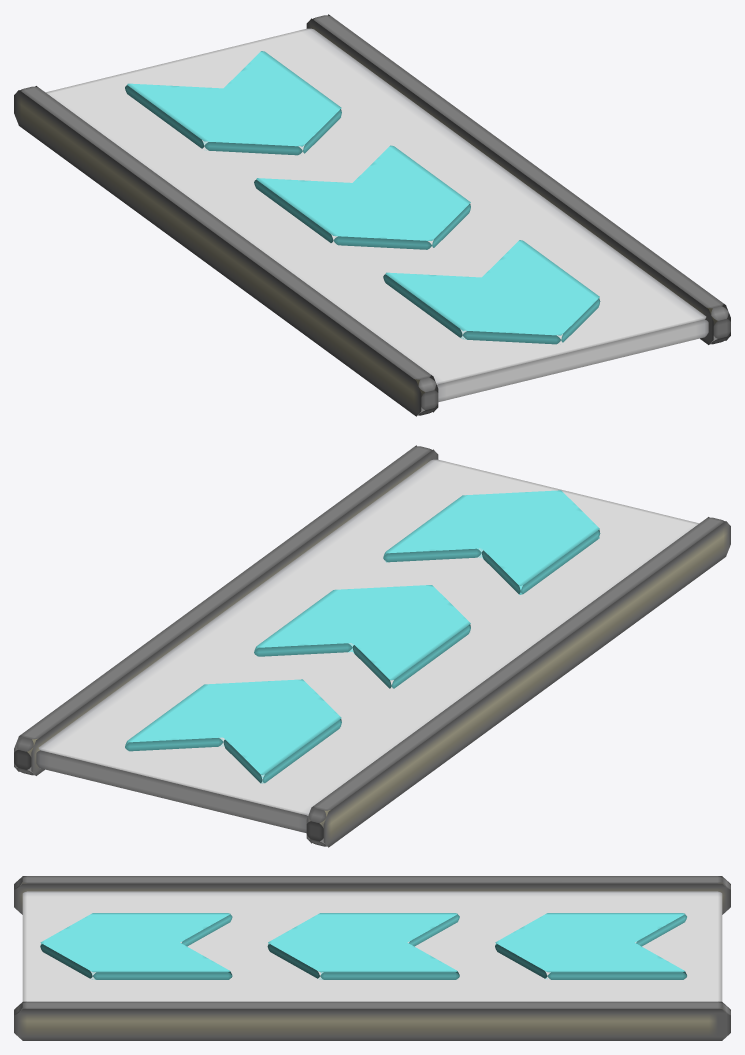
File: Belt.fbx
3 renders of one model, top to bottom at view 1: azimuth 30°, elevation 25°; view 2: azimuth 150°, elevation 25°; view 3: azimuth 270°, elevation 25°, orthographic. The views are drawn at different scales.
Parts seen in each view (by area): view 1: cube, cuboid, cuboid_2, cuboid_3, cuboid_1; view 2: cube, cuboid, cuboid_2, cuboid_3, cuboid_1; view 3: cube, cuboid, cuboid_3, cuboid_1, cuboid_2.
Part boxes in pixels (x1,y1,x2,y2): cube: (46, 28, 708, 402); cuboid: (14, 14, 730, 416); cuboid_2: (125, 51, 341, 155); cuboid_3: (383, 240, 600, 344); cuboid_1: (254, 145, 470, 249); cube: (36, 459, 698, 833); cuboid: (14, 445, 730, 847); cuboid_2: (125, 679, 341, 783); cuboid_3: (383, 490, 600, 594); cuboid_1: (254, 585, 470, 688); cube: (22, 891, 722, 1001); cuboid: (14, 876, 730, 1040); cuboid_3: (40, 913, 232, 979); cuboid_1: (267, 913, 459, 979); cuboid_2: (495, 913, 686, 979).
Bounding box in the file's own units: 225 × 25 × 512.
Materials: 1 (1 with a texture image).
